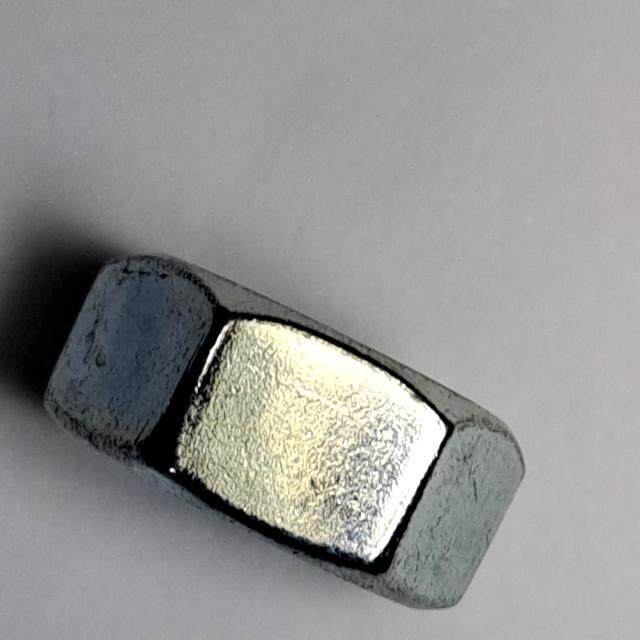Side_Excellent: (34, 246, 539, 620)
